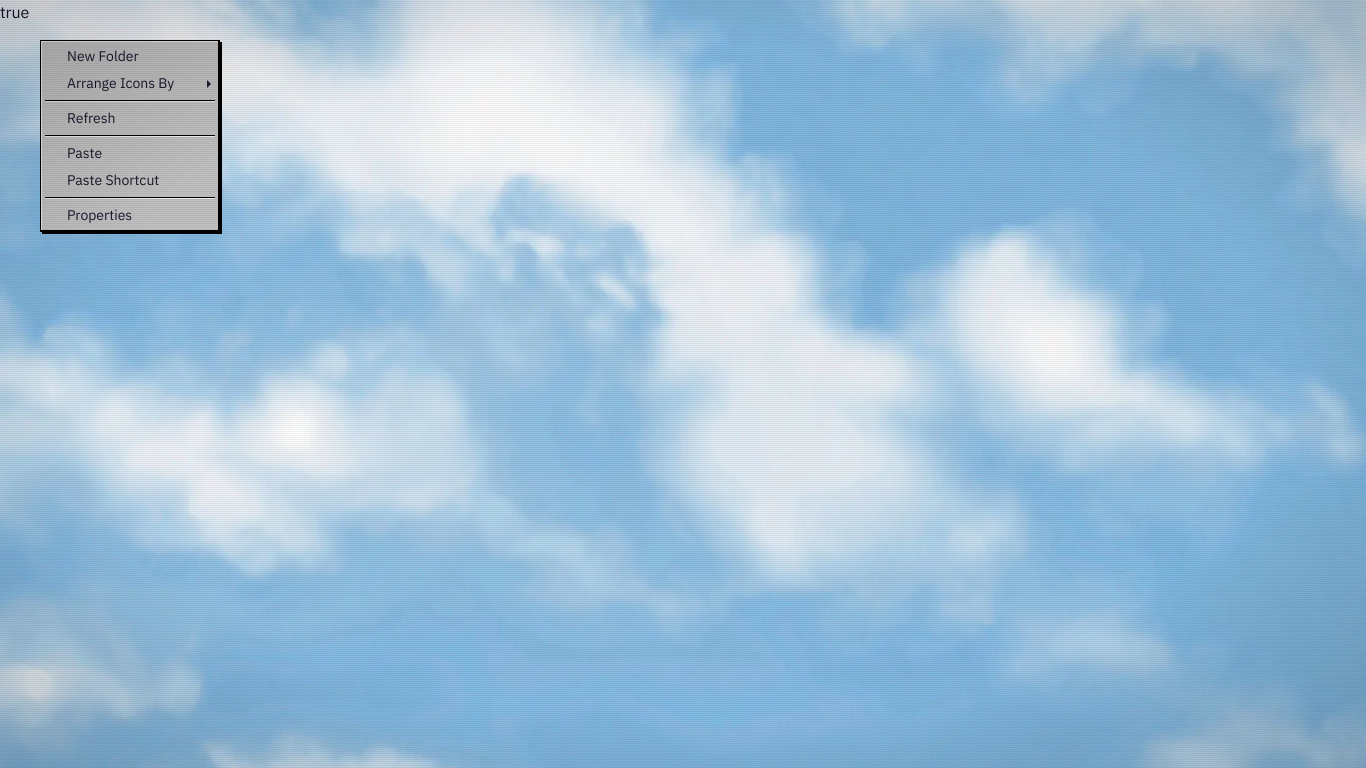
Test: the items that are only there for the period › says so plainly instead of doing nothing
Click the menu item "New Folder".
click(130, 56)  # box [43,43,217,70]
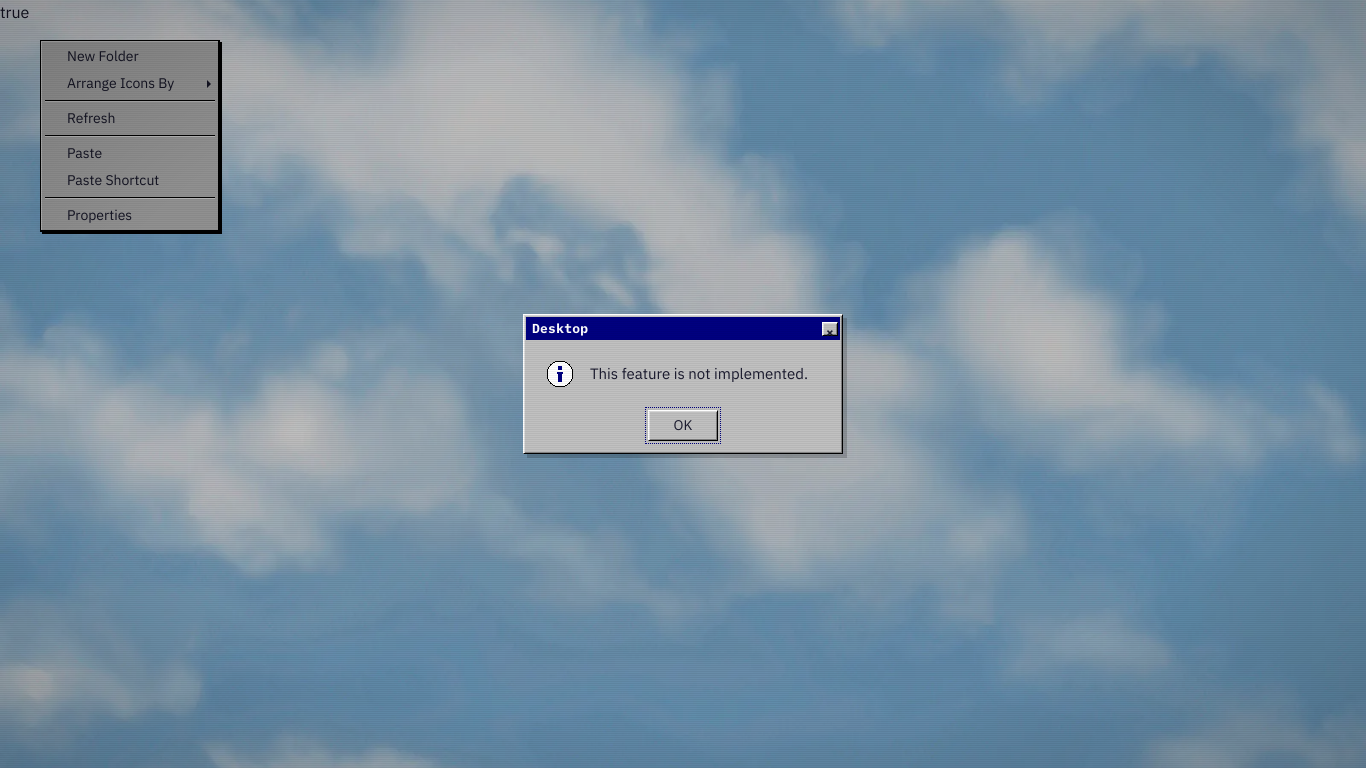
Check: the dialog shows "This feature is not implemented.", box [590,364,808,383]
